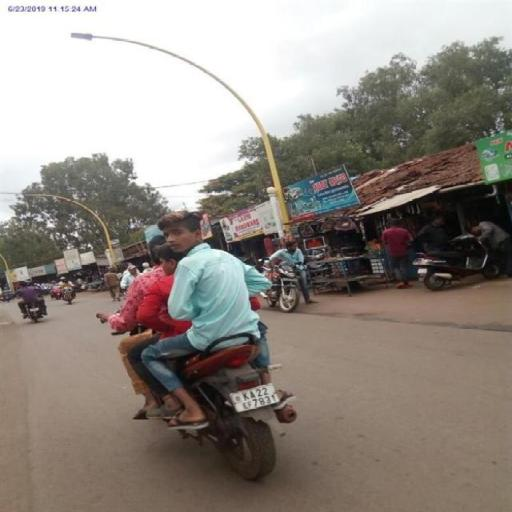tripple riding: (89, 211, 271, 348)
